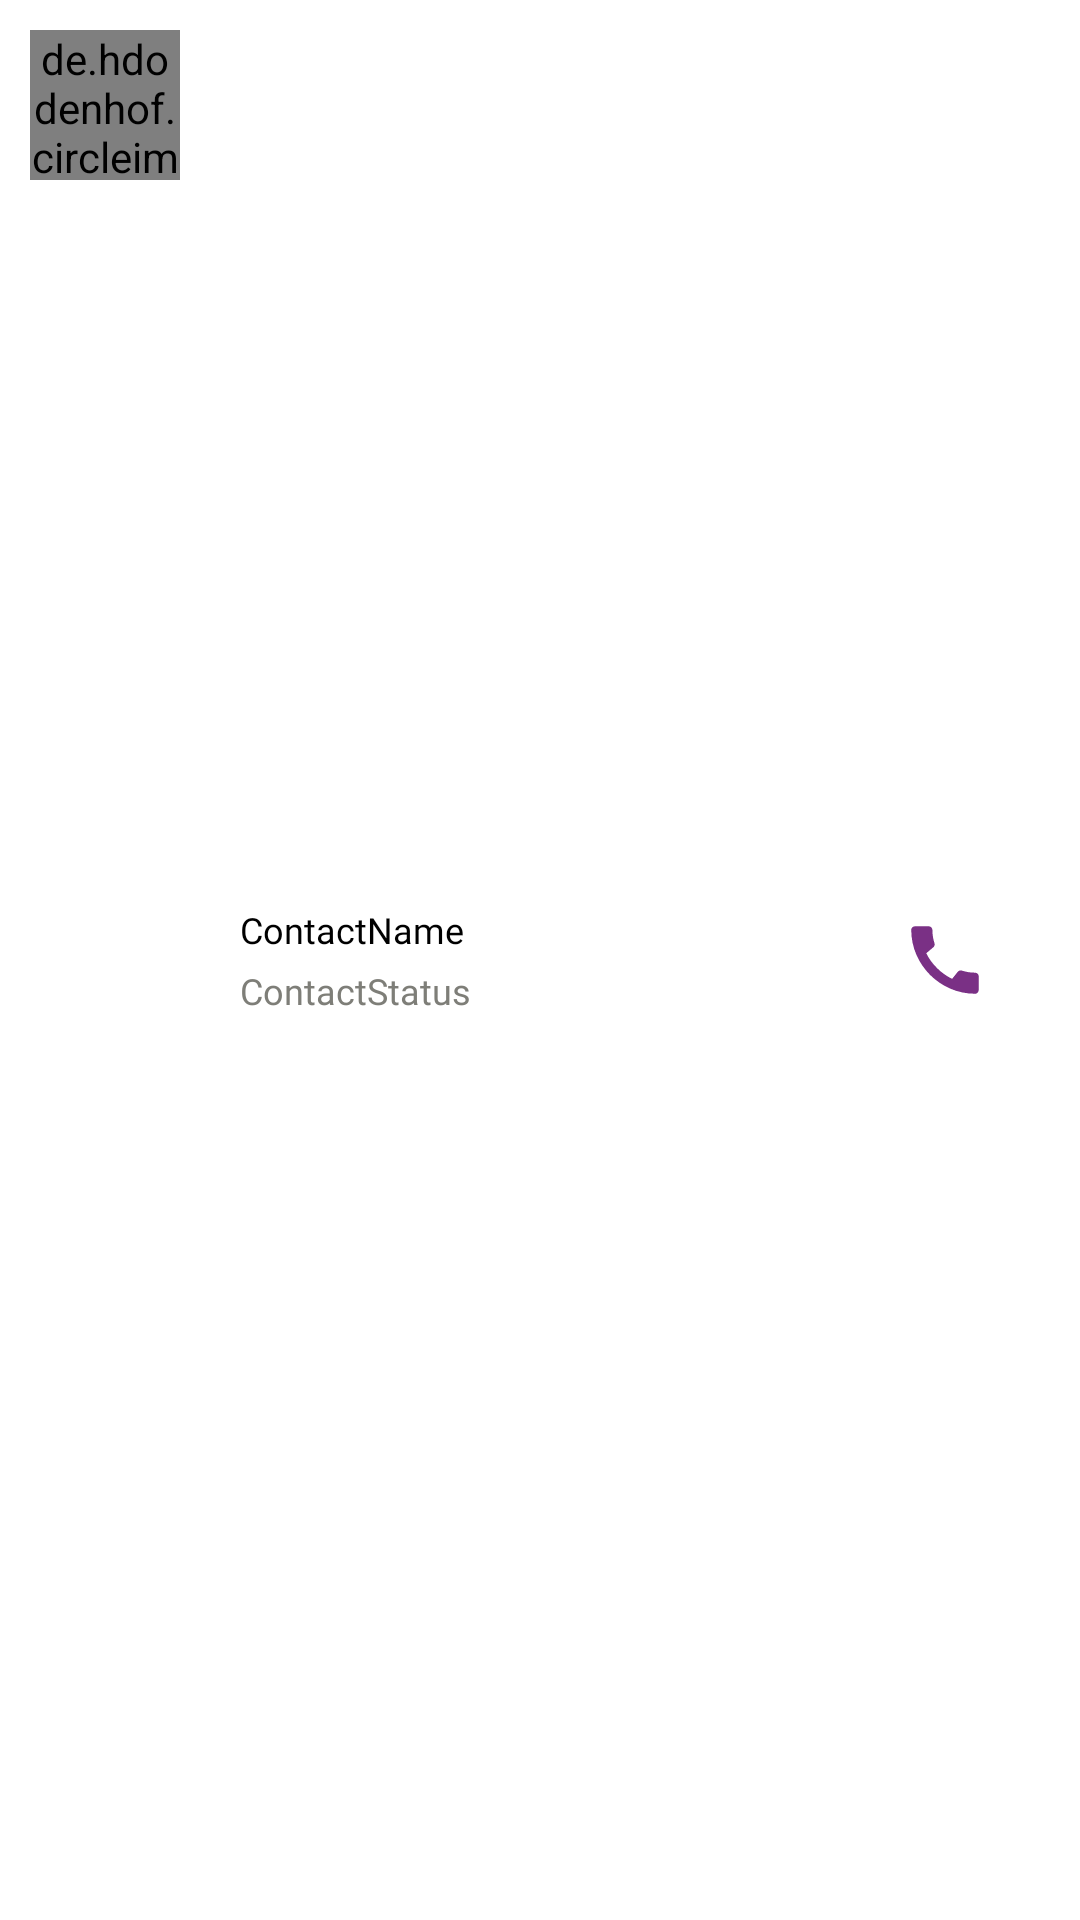

Icons on this 1080px×1920px Android screen, each with the point to tap as (x,y):
call: (945,960)
